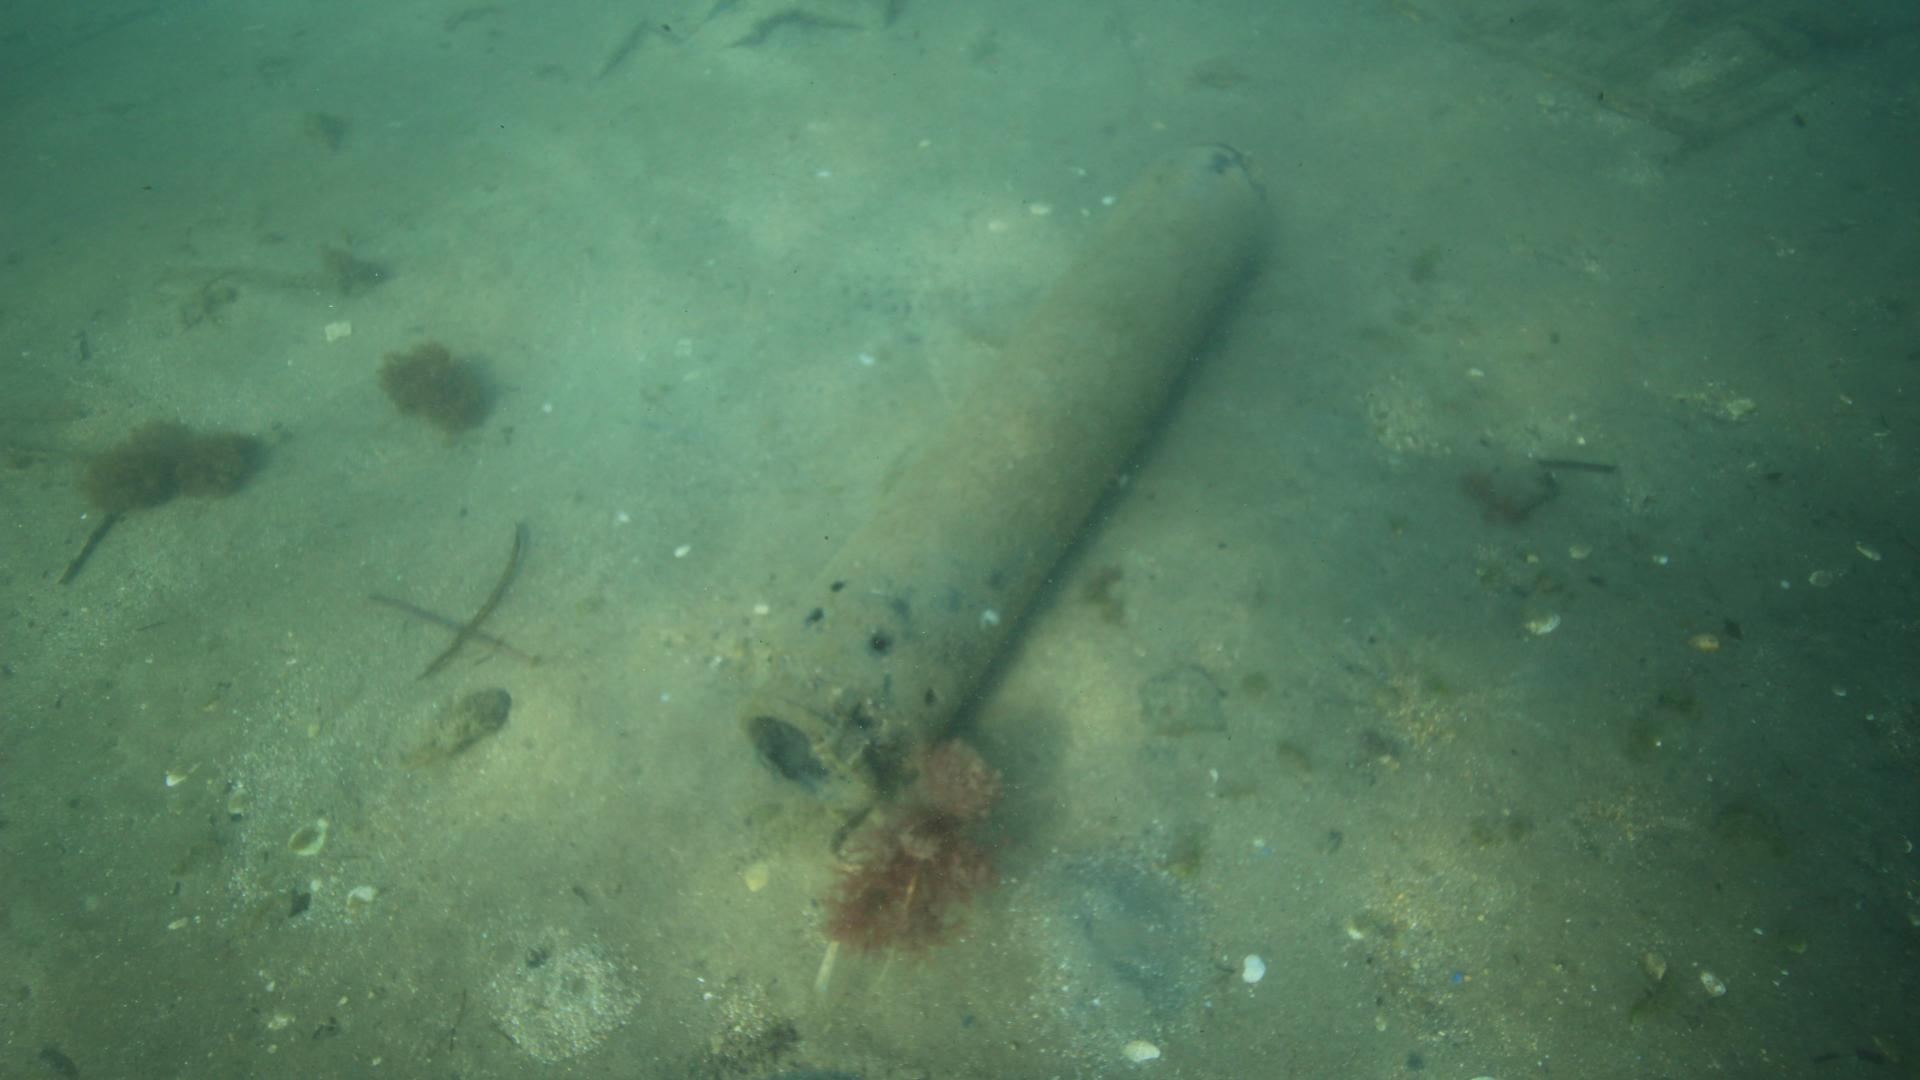eel fish trap: (738, 137, 1263, 796)
